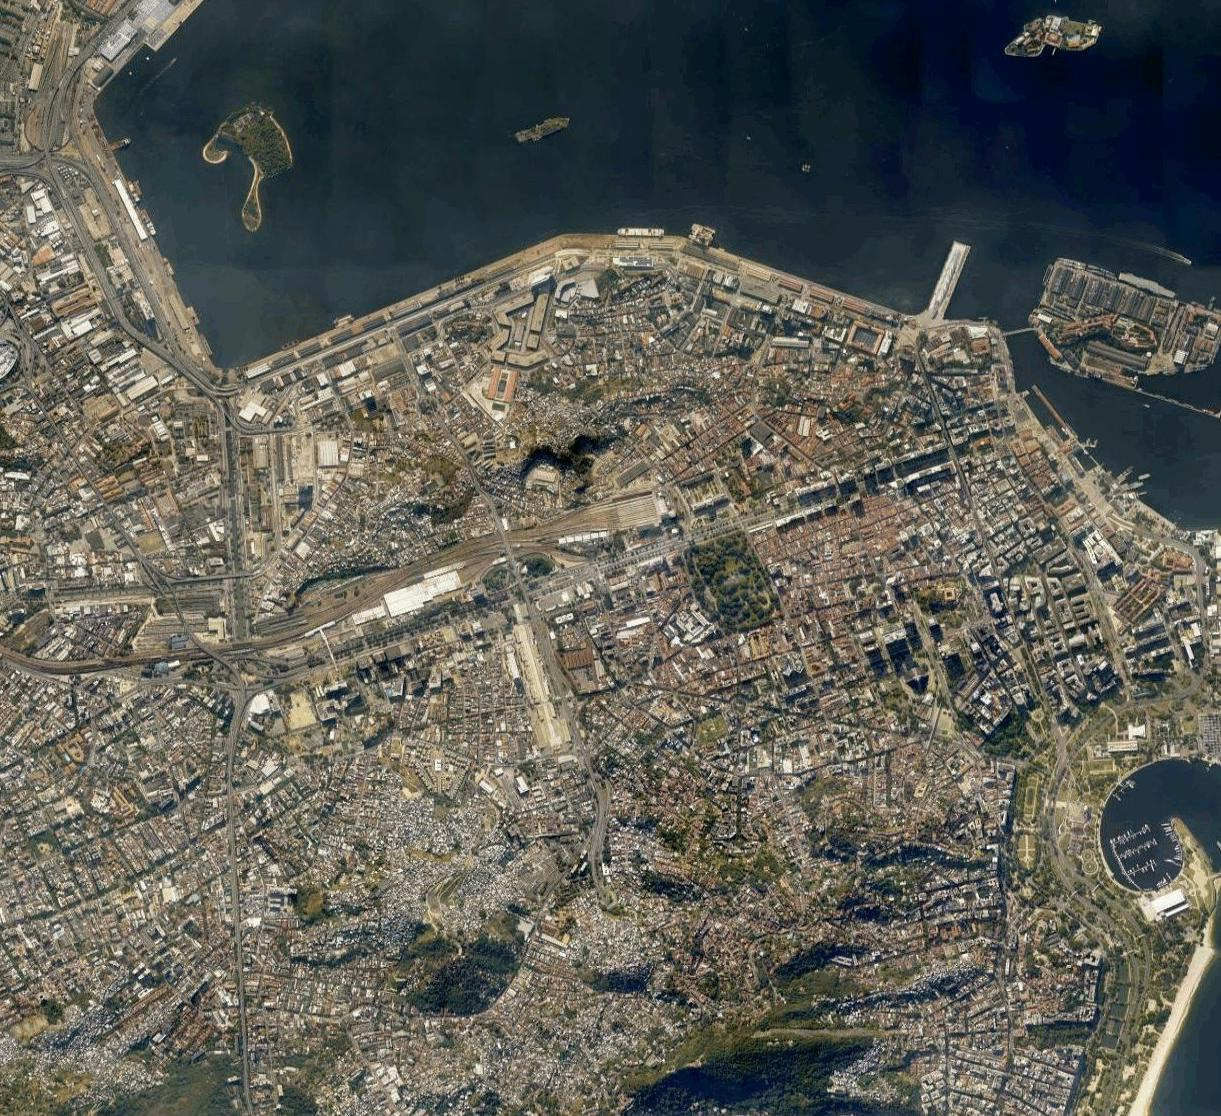bridge: (496, 528, 514, 556)
harbor: (926, 220, 1221, 540), (1100, 812, 1189, 897)
train_station: (612, 492, 667, 533)
